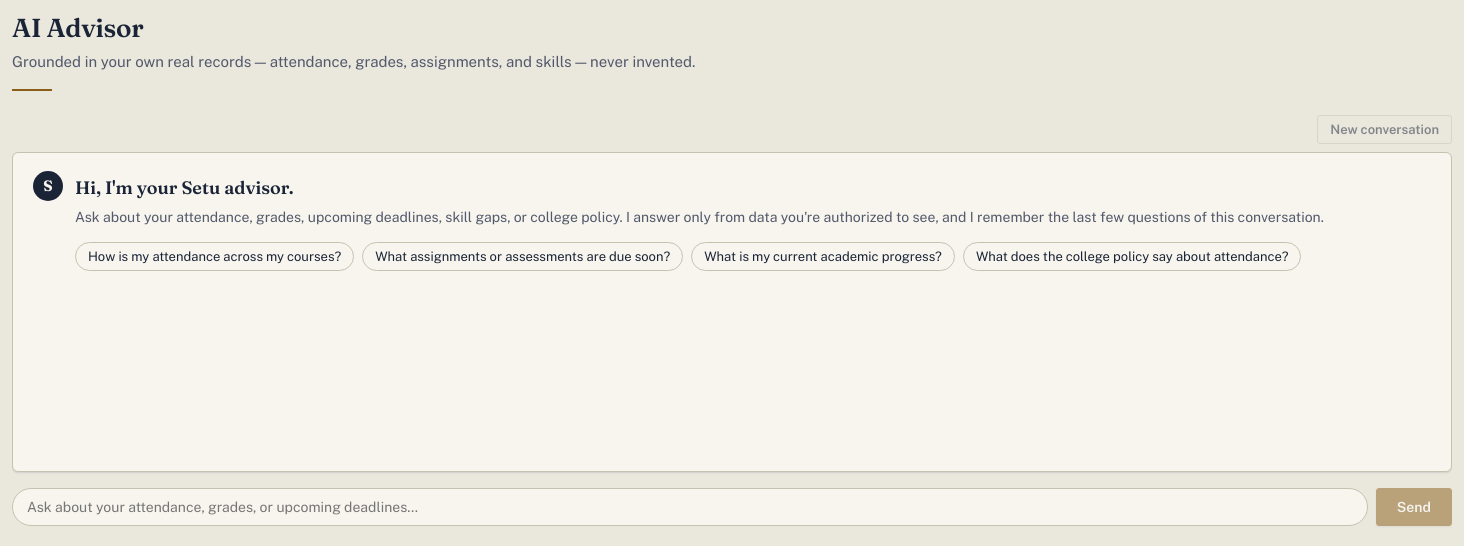
what an advisor answer is based on › says plainly when an answer used none of the student's records
Type "Hi" into the field named "Ask the AI Advisor" at (690, 507), box [12,488,1368,526]
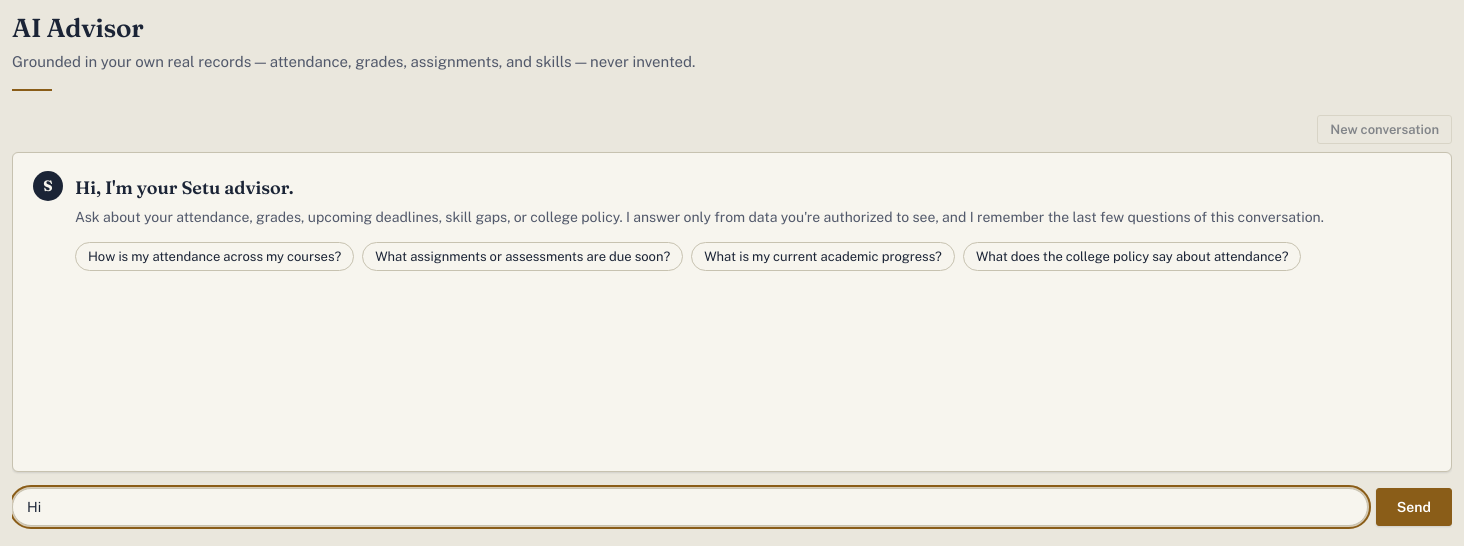
Click the button "Send" at (1414, 507), box [1376,488,1452,526]
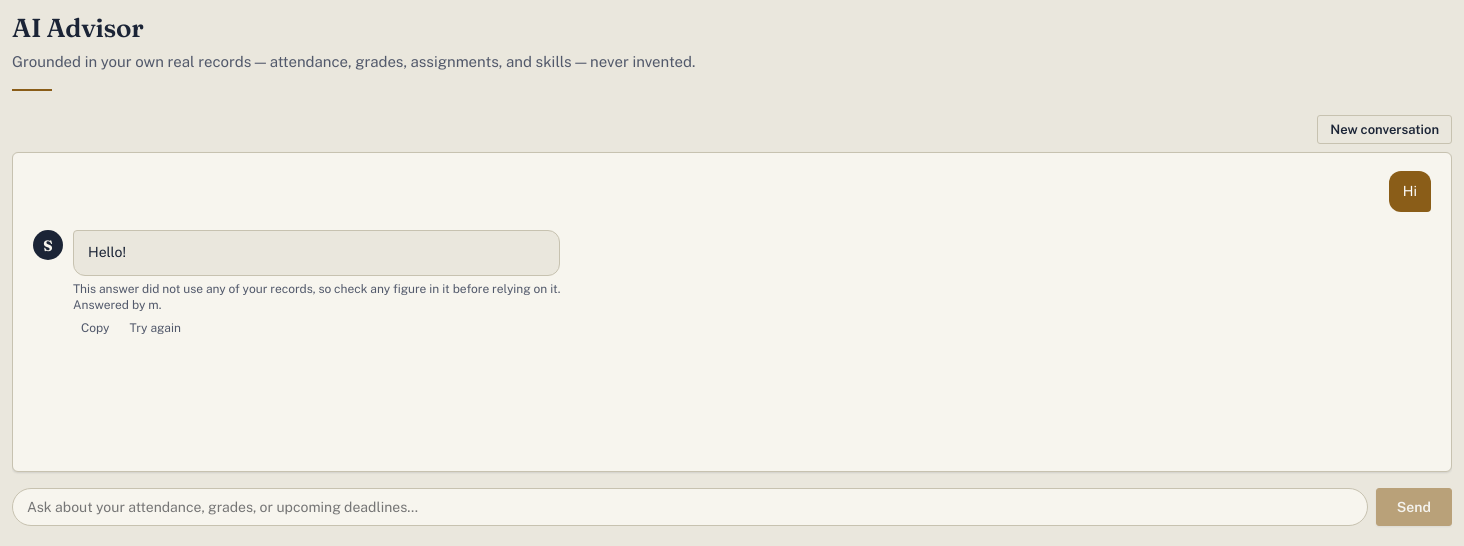
expect the text "did not use any of your records, so check any figure in it" is shown: met, box [73,282,560,296]
